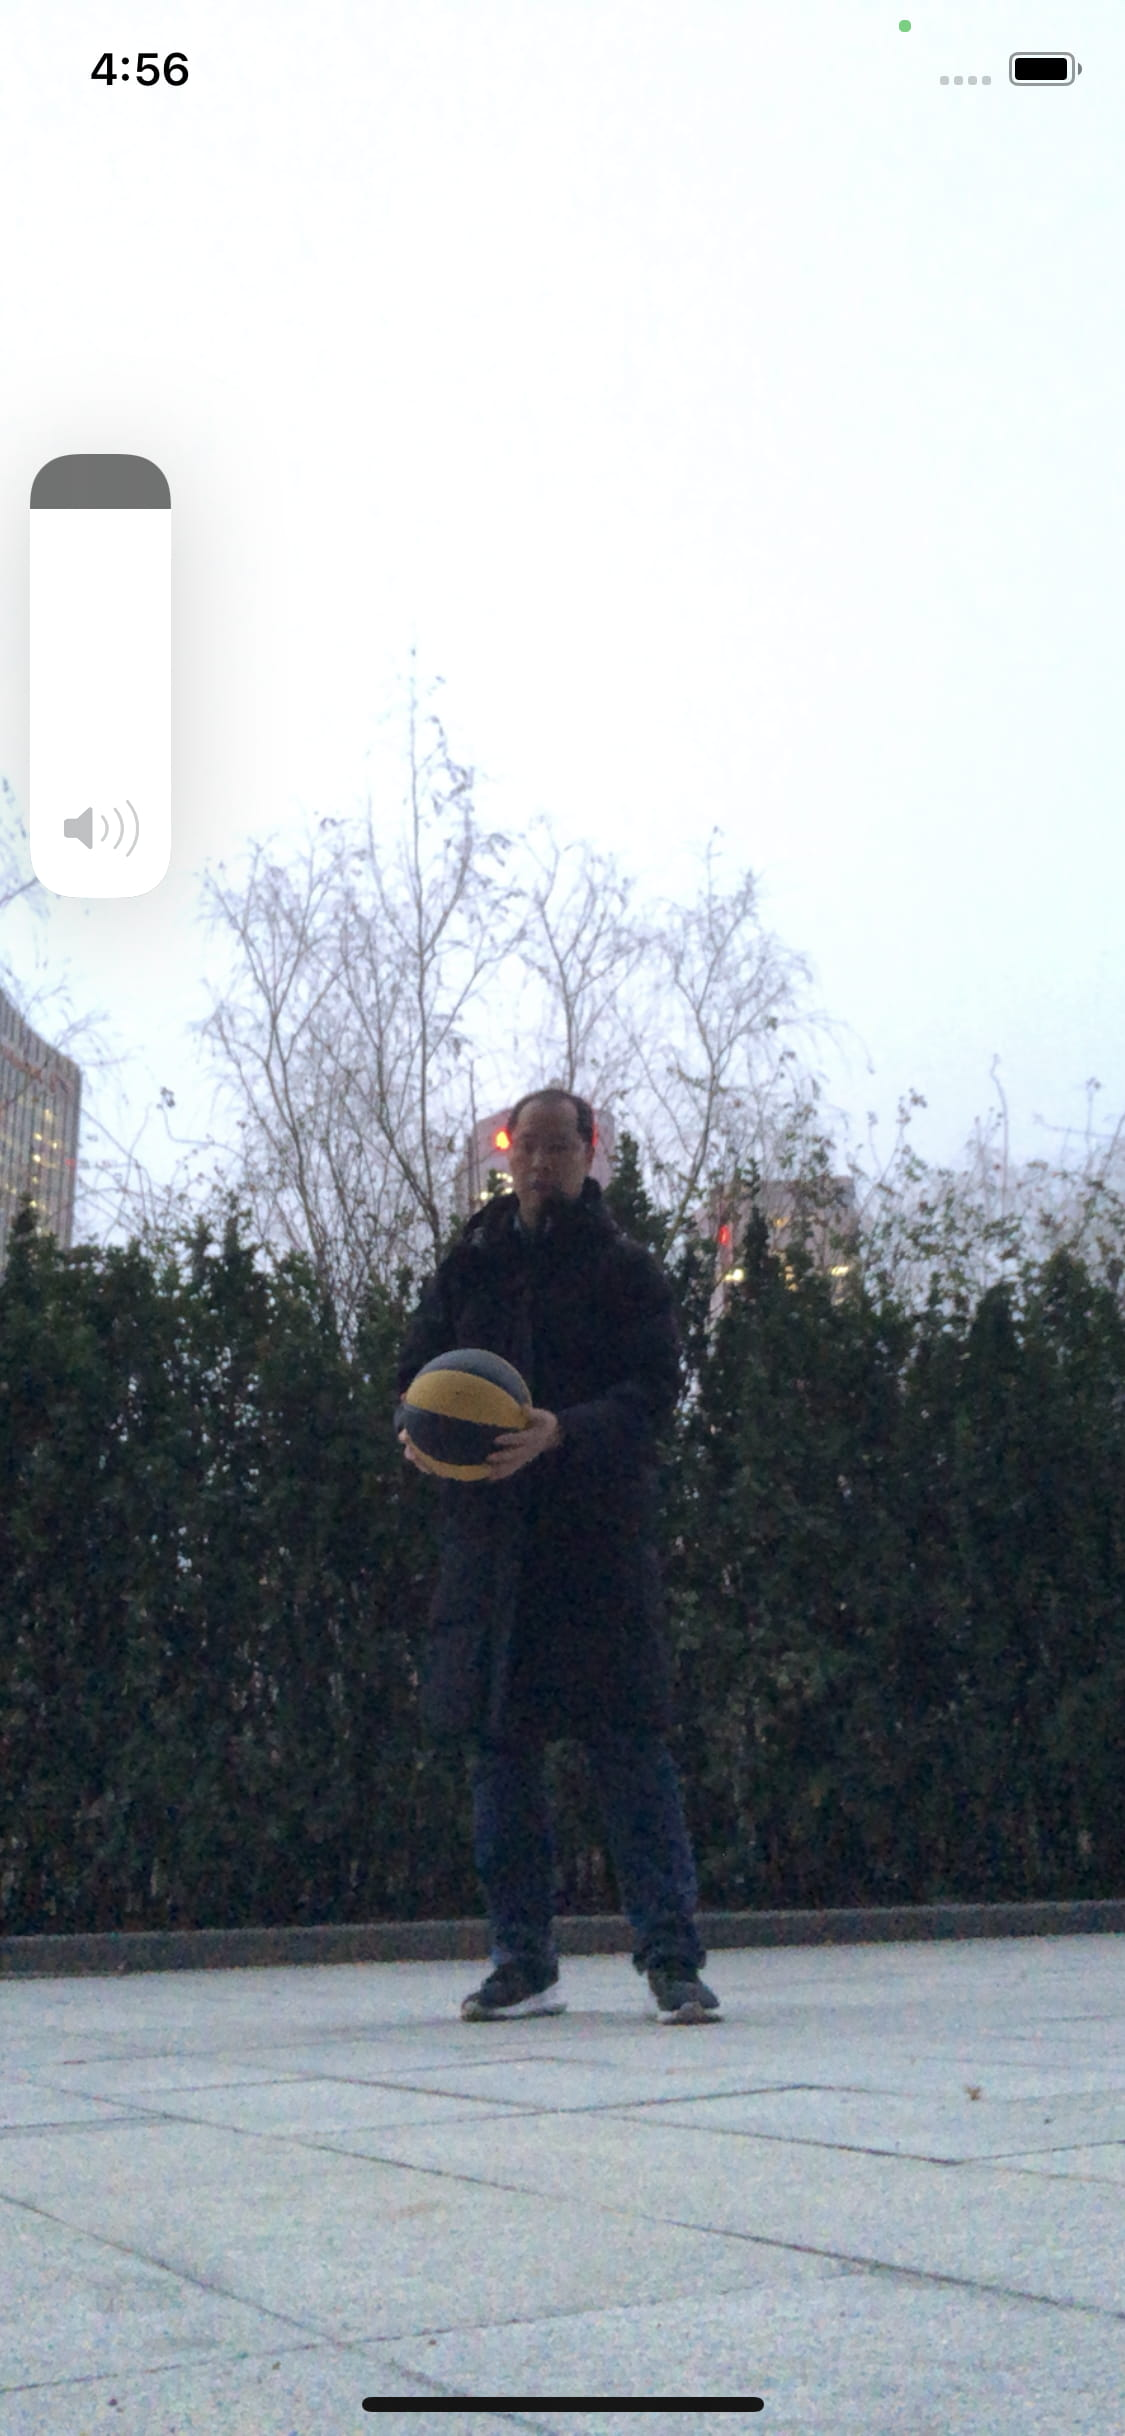ball: (401, 1348, 541, 1488)
